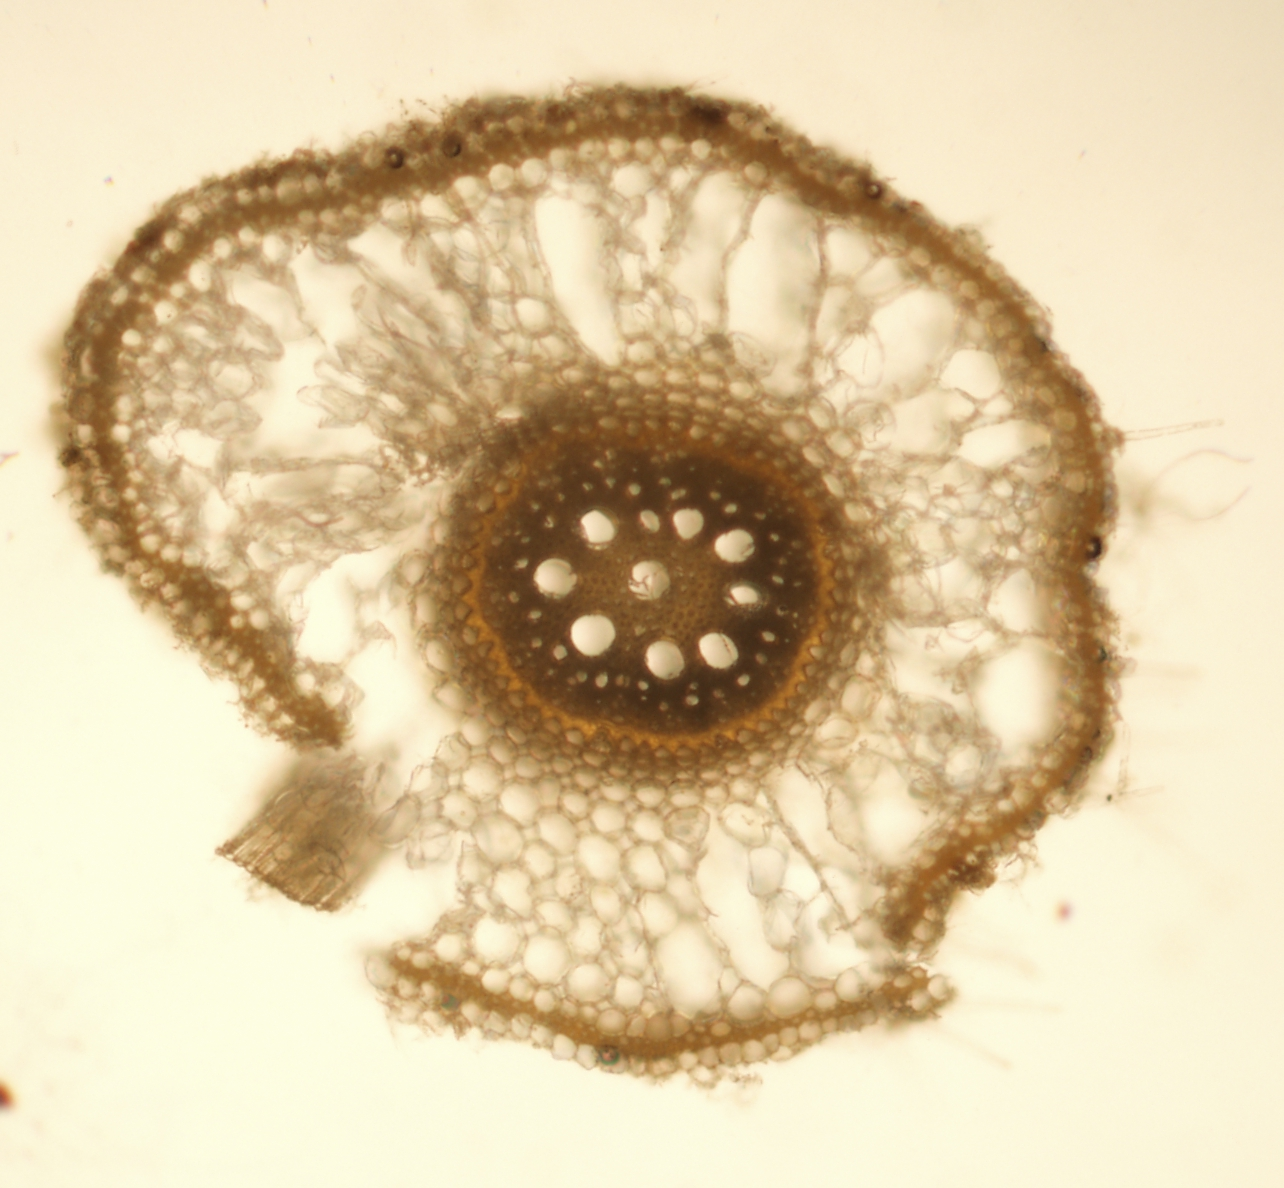lm: (570, 614, 616, 657), (534, 558, 578, 598), (627, 560, 671, 600), (644, 640, 685, 680), (698, 632, 739, 669), (714, 528, 755, 563), (580, 509, 615, 544), (673, 508, 704, 540), (724, 585, 761, 606), (640, 509, 660, 532)
